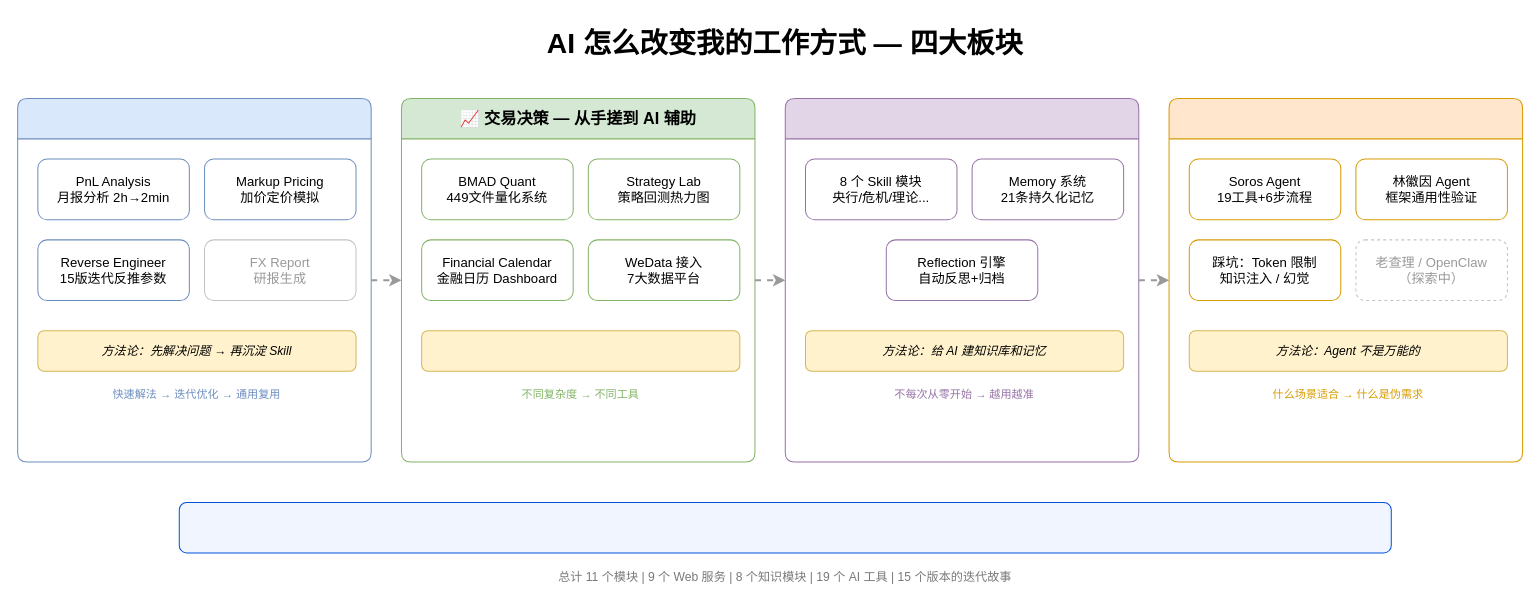
Some shapes in this 1540 by 610 pixel diagram are drawn without their labels. Each missing label, with the box of its shape:
方法论：手搓 → Claude → CodeBuddy: (421, 330, 740, 371)
🎯 核心：按工作类型分类，每类有独立的方法论 | 让不同岗位的人都能找到可借鉴的经验: (178, 501, 1391, 553)
📊 分析提效 — 工具箱思维: (17, 97, 371, 462)
📚 知识沉淀 — 让 AI 越用越懂你: (784, 97, 1139, 462)
🤖 Agent 探索 — 踩坑故事: (1168, 97, 1523, 462)
